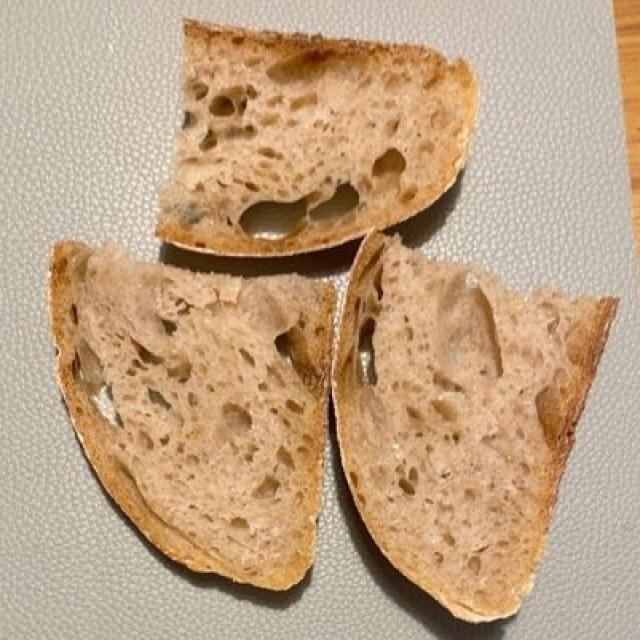bread: (60, 17, 621, 631)
